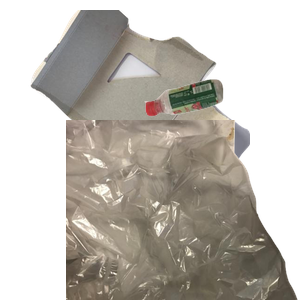glass: (77, 147, 295, 300)
paper: (28, 10, 268, 190)
plastic: (142, 77, 300, 186)
trash: (66, 120, 300, 300)
